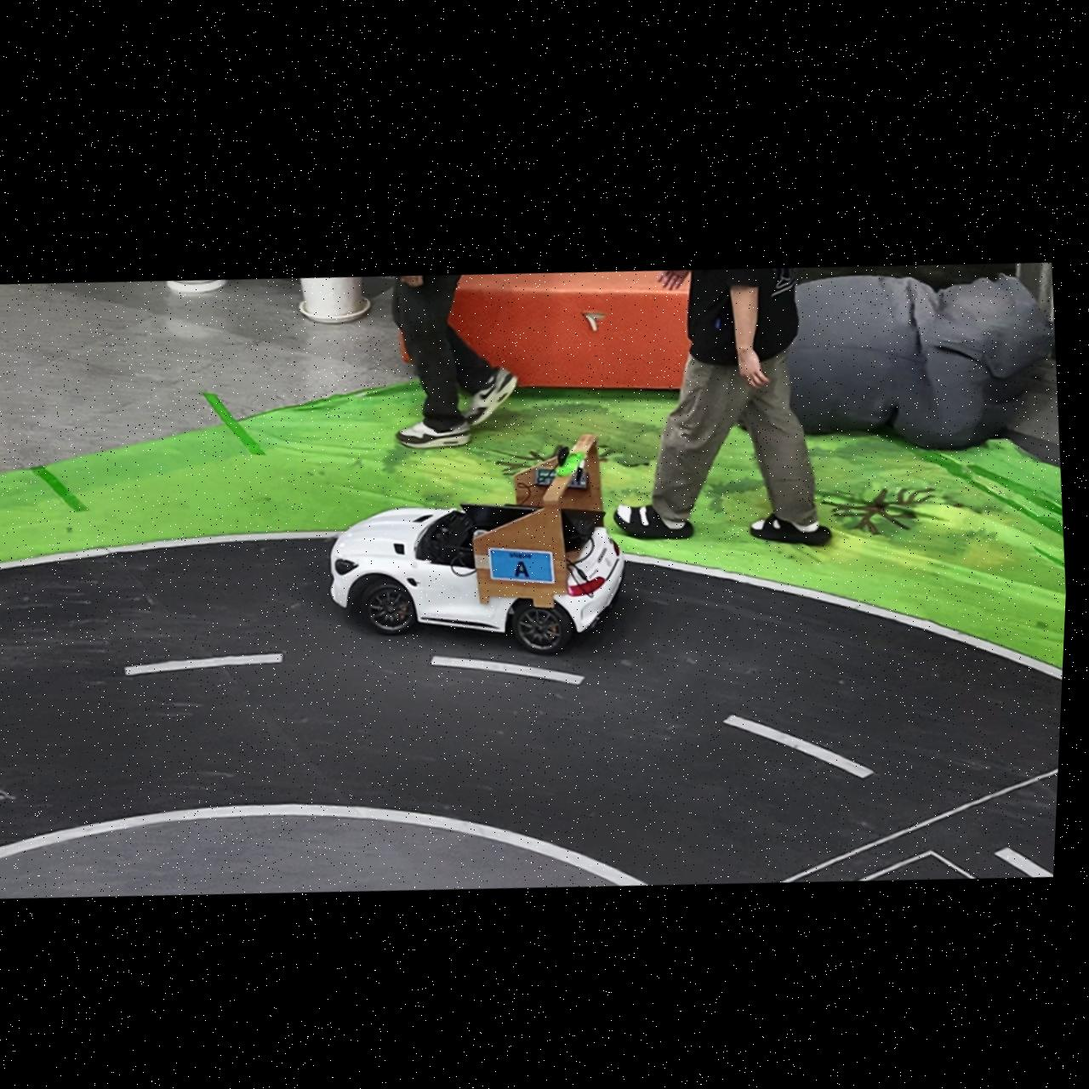broken_line: (724, 715, 873, 778), (430, 656, 584, 685), (124, 652, 283, 675), (994, 848, 1053, 877)
